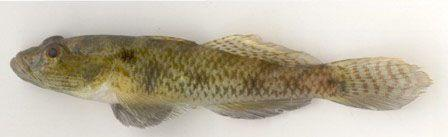Goby: (10, 27, 431, 128)
